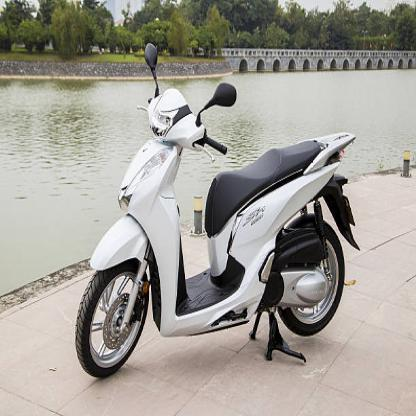Motorcycle: (68, 57, 356, 384)
